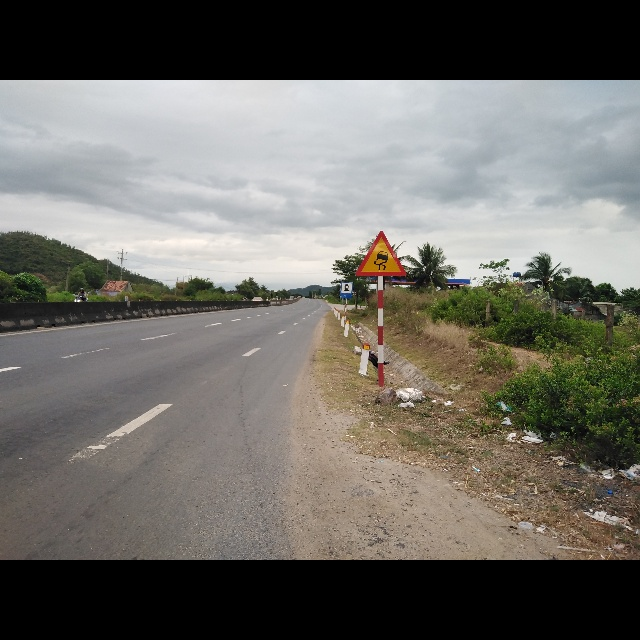Đường trơn trượt: (356, 229, 408, 278)
